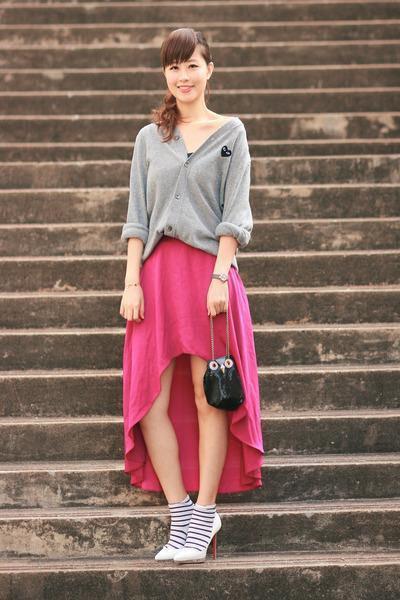bag: (194, 355, 244, 412)
shirt: (108, 115, 251, 260)
shoe: (148, 514, 221, 560)
skirt: (120, 229, 270, 506)
